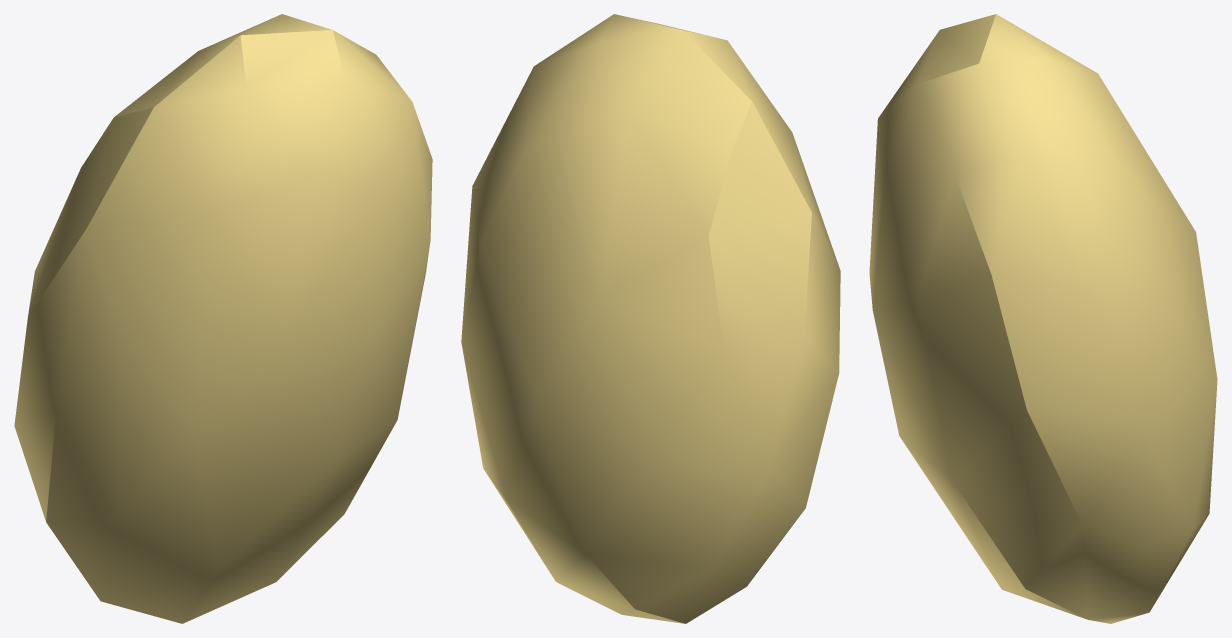
Rendered from fma54579_mm3510.glb.
3 views of the same model, side by side, from view 1: azimuth 30°, elevation 25°; view 2: azimuth 150°, elevation 25°; view 3: azimuth 270°, elevation 25° (orthographic). The views are drawn at different scales.
Visible parts, largest first — view 1: FMA54579_MM3510; view 2: FMA54579_MM3510; view 3: FMA54579_MM3510.
Boxes of the visible parts, x1=… form: FMA54579_MM3510: x1=14, y1=14, x2=432, y2=623; FMA54579_MM3510: x1=461, y1=14, x2=840, y2=623; FMA54579_MM3510: x1=869, y1=14, x2=1217, y2=623.
Size of the model in its own units: 0.00179 by 0.00274 by 0.00143.
